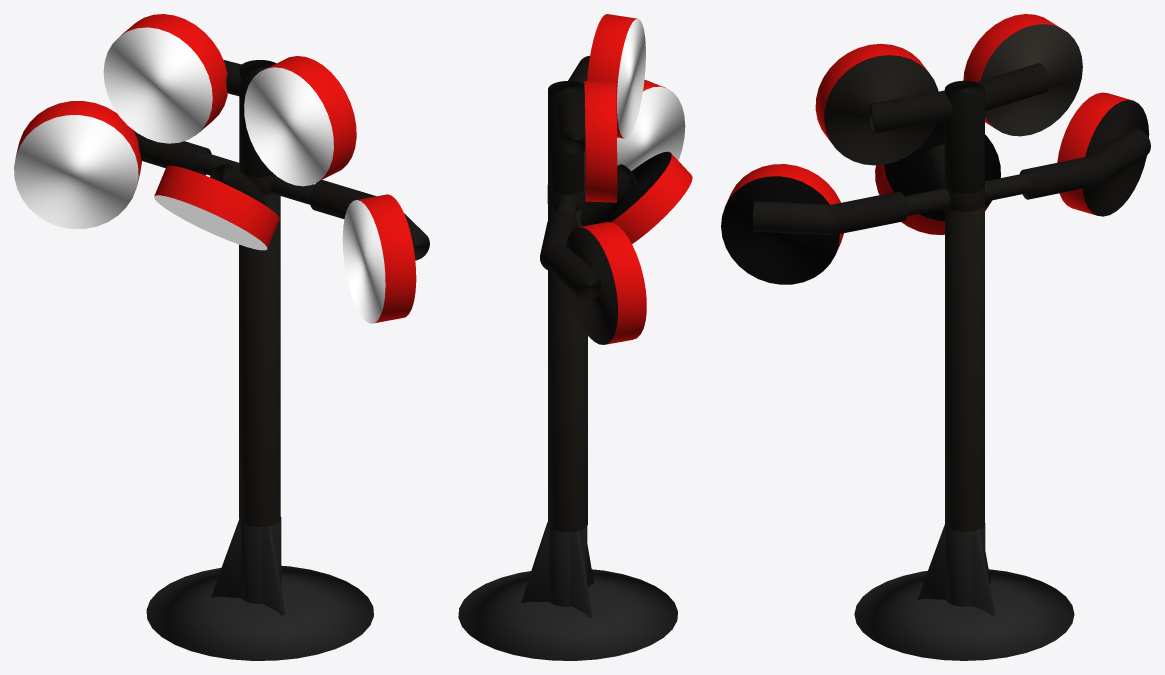
File: boxing-pads-versie4.gltf
3 views of the same model, side by side, from view 1: azimuth 30°, elevation 25°; view 2: azimuth 150°, elevation 25°; view 3: azimuth 270°, elevation 25° (orthographic). The views are drawn at different scales.
Parts seen in each view (by area): view 1: plateau, dunne stang left hook.005, dunne stang left hook.008, onderkant stang, dunne stang left hook.011, dunne stang left hook.003, dunne stang left hook.013, driehoekpoot, middenstuk stang.001, dunne stang left hook.006, dunne stang left hook.002, dunne stang left hook.014 (+1 smaller); view 2: plateau, onderkant stang, dunne stang left hook.005, dunne stang left hook.011, driehoekpoot, dunne stang left hook.013, dunne stang left hook.008, dunne stang left hook.003, middenstuk stang.001, dunne stang left hook.004, dunne stang left hook.009, dunne stang left hook.014 (+2 smaller); view 3: plateau, onderkant stang, dunne stang left hook.011, dunne stang left hook.003, dunne stang left hook.008, dunne stang left hook.005, driehoekpoot, middenstuk stang.001, dunne stang left hook.013, dunne stang left hook.010, dunne stang left hook.012, dunne stang left hook.006 (+7 smaller).
Part boxes in pixels (x1,y1,x2,y2): plateau: (146,565,373,660); dunne stang left hook.005: (14,101,141,228); dunne stang left hook.008: (103,14,227,143); onderkant stang: (239,193,280,527); dunne stang left hook.011: (244,56,356,186); dunne stang left hook.003: (342,194,416,323); dunne stang left hook.013: (154,165,279,250); driehoekpoot: (211,517,285,615); middenstuk stang.001: (239,60,276,177); dunne stang left hook.006: (136,132,211,175); dunne stang left hook.002: (309,180,375,219); dunne stang left hook.014: (210,163,265,205); plateau: (458,569,677,660); onderkant stang: (548,205,587,532); dunne stang left hook.005: (566,222,646,344); dunne stang left hook.011: (587,14,645,138); driehoekpoot: (521,522,593,617); dunne stang left hook.013: (587,151,692,243); dunne stang left hook.008: (584,81,617,202); dunne stang left hook.003: (617,80,685,170); middenstuk stang.001: (548,81,584,194); dunne stang left hook.004: (541,243,600,299); dunne stang left hook.009: (557,96,584,154); dunne stang left hook.014: (580,164,637,226); plateau: (854,569,1074,660); onderkant stang: (945,204,984,531); dunne stang left hook.011: (815,43,938,165); dunne stang left hook.003: (721,164,843,284); dunne stang left hook.008: (963,14,1082,136); dunne stang left hook.005: (1057,92,1149,216); driehoekpoot: (917,523,994,615); middenstuk stang.001: (944,80,984,193); dunne stang left hook.013: (875,121,1000,234); dunne stang left hook.010: (869,90,952,133); dunne stang left hook.012: (752,201,834,234); dunne stang left hook.006: (1020,155,1105,199).
Size of the model in its own units: 1.46 by 3.1 by 2.14.
